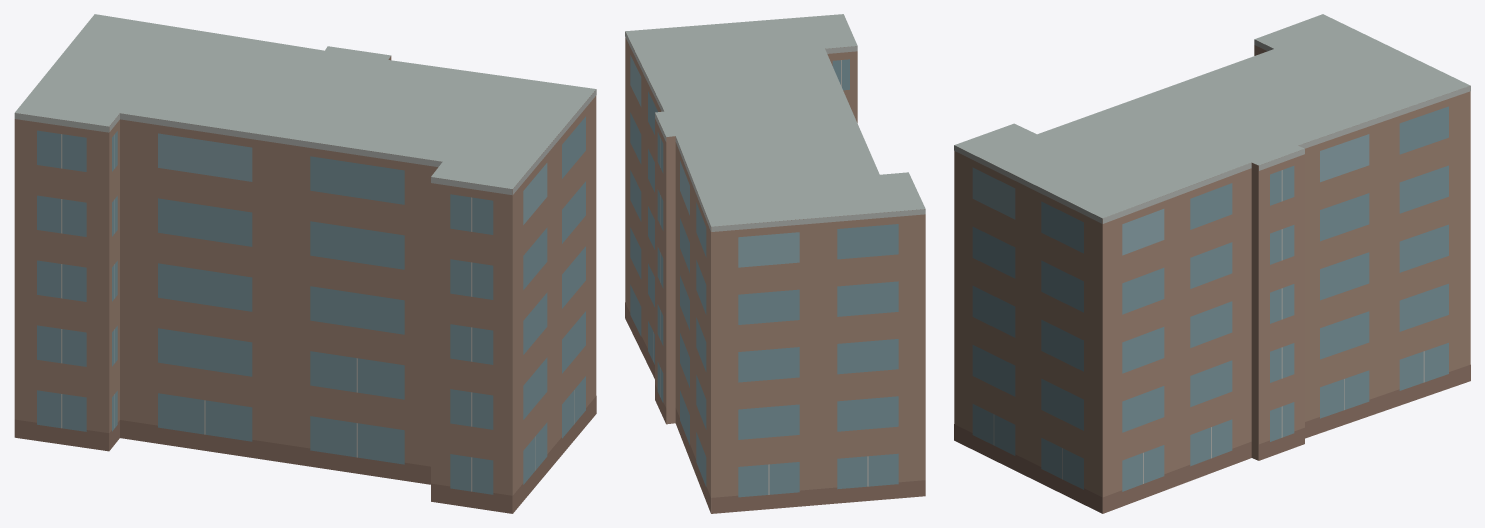
File: survey-upis-32963673.glb
3 views of the same model, side by side, from view 1: azimuth 30°, elevation 25°; view 2: azimuth 150°, elevation 25°; view 3: azimuth 270°, elevation 25° (orthographic). The views are drawn at different scales.
Parts seen in each view (by area): view 1: survey-upis-32963673.tmp; view 2: survey-upis-32963673.tmp; view 3: survey-upis-32963673.tmp.
Boxes of the visible parts, left/top/right/bottom form: survey-upis-32963673.tmp: left=14, top=14, right=596, bottom=513; survey-upis-32963673.tmp: left=625, top=14, right=925, bottom=513; survey-upis-32963673.tmp: left=954, top=14, right=1470, bottom=513.
Bounding box in the file's own units: 19.32 × 13 × 20.61.
